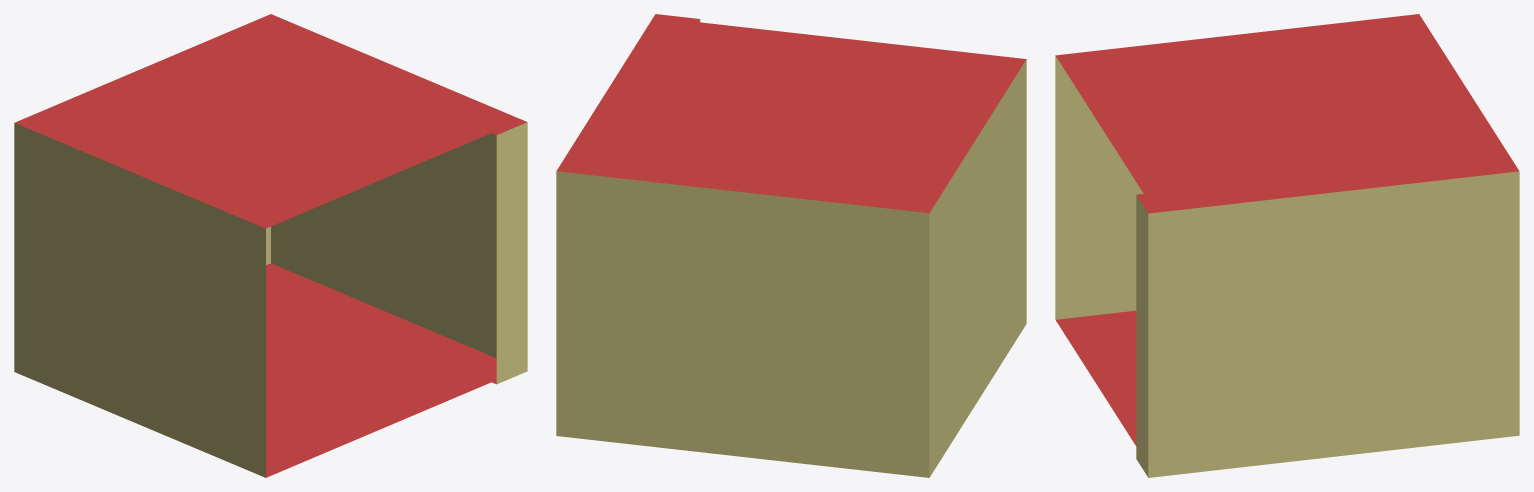
3 views of the same model, side by side, from view 1: azimuth 30°, elevation 25°; view 2: azimuth 150°, elevation 25°; view 3: azimuth 270°, elevation 25° (orthographic). The views are drawn at different scales.
Bounding box in the file's own units: 8.67 × 8.52 × 5.35.
